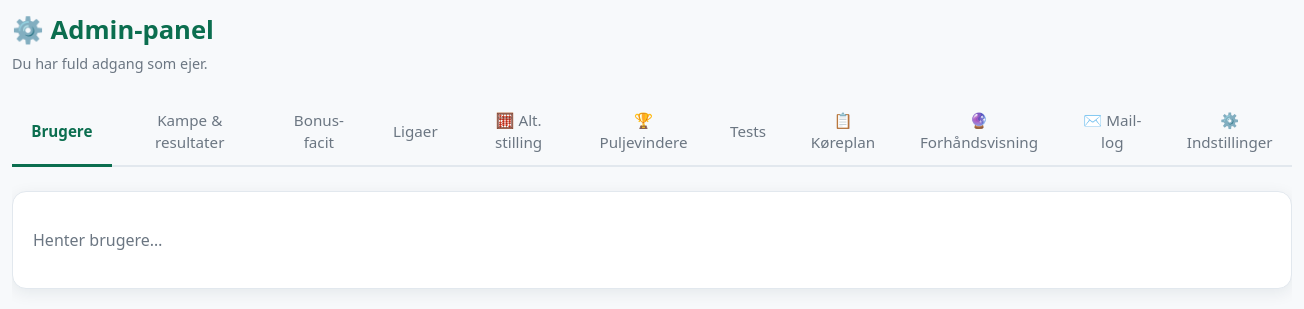
Test: AdminPage › Owner-bruger (fuld adgang) › faneskift fra Brugere til Kampe viser kamp-indhold
The image size is (1304, 309).
Click the button with test id "tab-matches" at (190, 133), box [116,99,264,167]
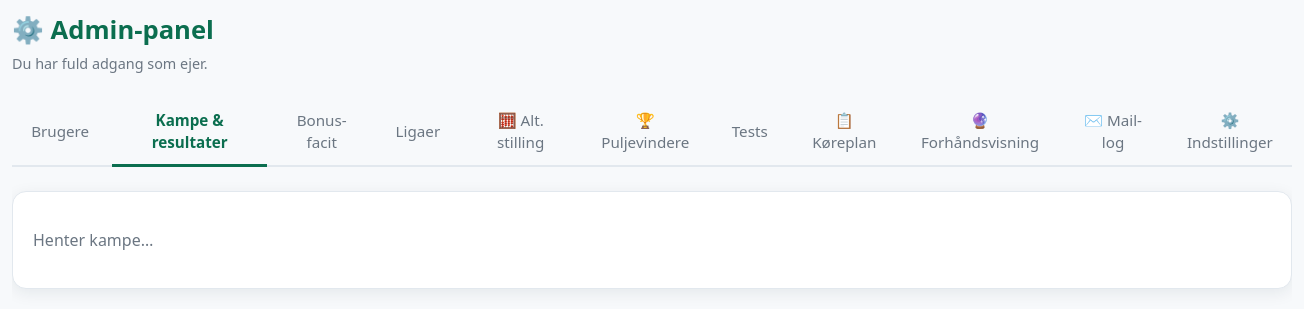
Now the text "Henter kampe…" is shown, box [33,229,153,251]
